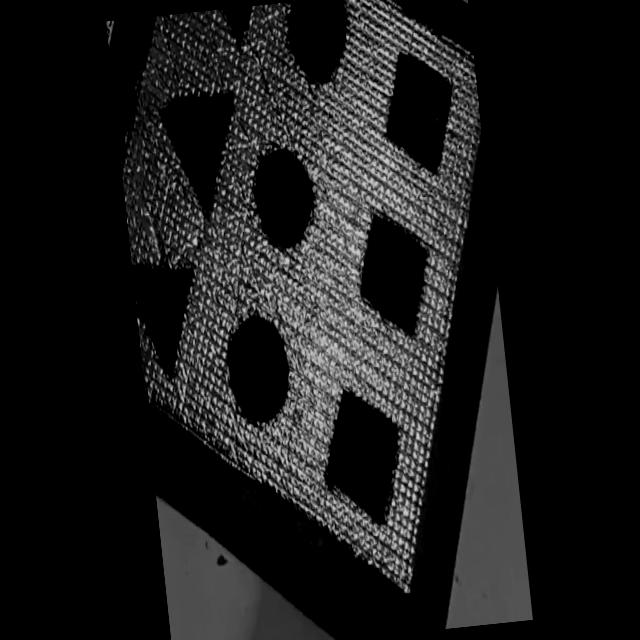mtcircle: (220, 312, 296, 428), (246, 142, 320, 256), (283, 0, 355, 88)
mtcube: (316, 383, 408, 530), (350, 206, 437, 343), (377, 44, 462, 182)
mttriangle: (158, 88, 247, 225), (130, 262, 202, 379), (219, 6, 260, 51)
wb: (122, 0, 482, 589)
